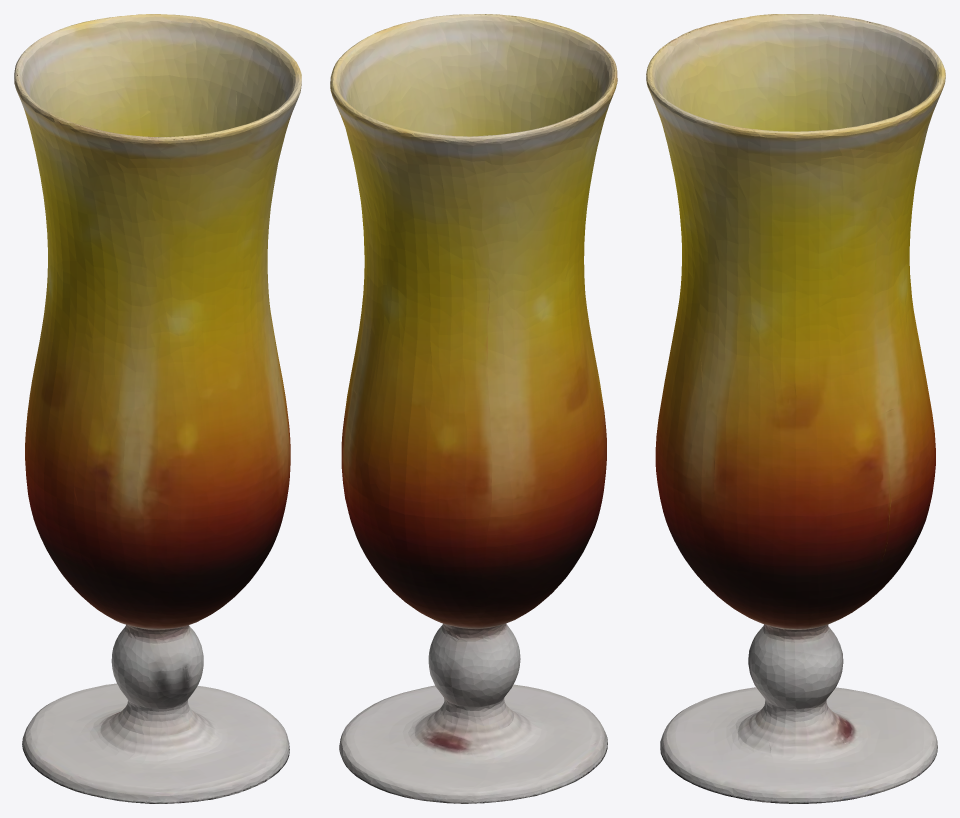
The model's file is p_rumpunch.glb.
3 views of the same model, side by side, from view 1: azimuth 30°, elevation 25°; view 2: azimuth 150°, elevation 25°; view 3: azimuth 270°, elevation 25° (orthographic).
Visible parts, largest first — view 1: geometry_0; view 2: geometry_0; view 3: geometry_0.
Part boxes in pixels (left/top/right/bottom): geometry_0: left=14, top=14, right=301, bottom=803; geometry_0: left=330, top=14, right=617, bottom=803; geometry_0: left=646, top=14, right=945, bottom=803.
Bounding box in the file's own units: 0.3817 × 1 × 0.4011.
Materials: 1 (1 with a texture image).
